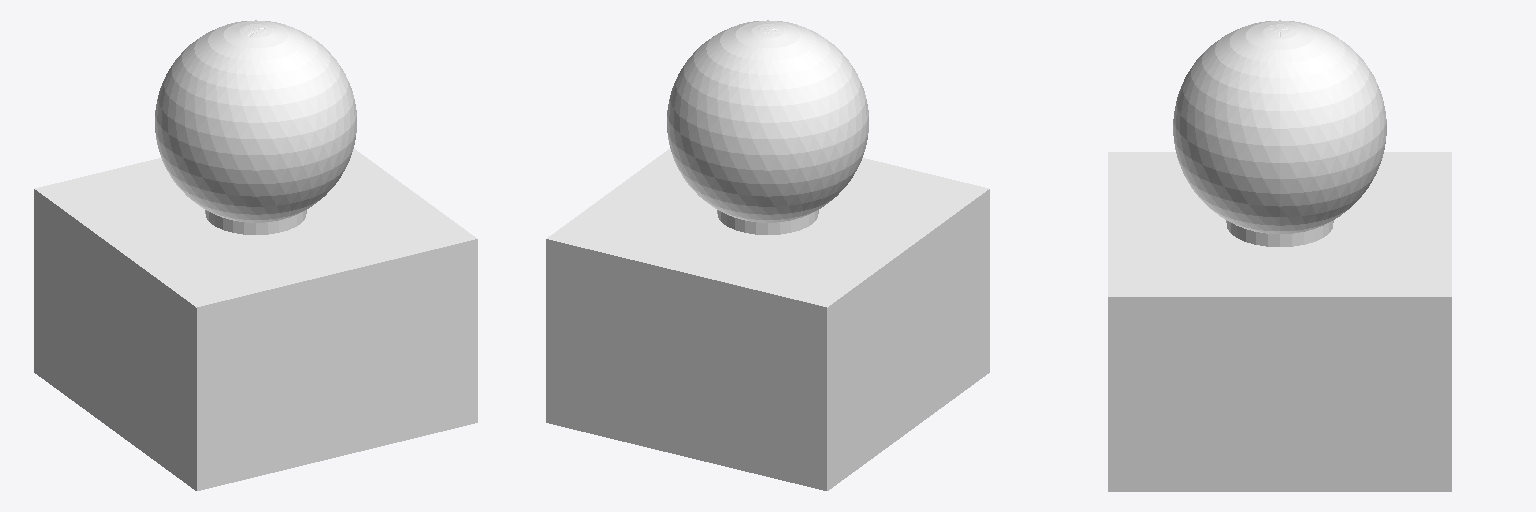
robot.urdf — sphere2:
<robot name="sphere2">
	<link name="_name">
		<visual>
			<origin rpy="0 0 0" xyz="-2.7669034778703877e-08 -3.704159069169237e-11 -0.007634068834465256" />
			<geometry>
				<mesh filename="sphere2.obj" scale=".001 .001 .001" />
			</geometry>
			<material name="texture">
				<color rgba="1.0 1.0 1.0 1.0" />
			</material>
		</visual>
		<collision>
			<geometry>
				<mesh filename="sphere2_vhacd.obj" scale=".001 .001 .001" />
			</geometry>
		<origin rpy="0 0 0" xyz="-2.7669034778703877e-08 -3.704159069169237e-11 -0.007634068834465256" /></collision>
		<inertial>
			<mass value="1.0" />
			<inertia ixx="1.0" ixy="0.0" ixz="0.0" iyy="1.0" iyz="0.0" izz="1.0" />
		</inertial>
	</link>
</robot>

--- Render facts (derived) ---
The picture shows the robot from 3 angles, left to right: view 1: azimuth 30°, elevation 25°; view 2: azimuth 150°, elevation 25°; view 3: azimuth 270°, elevation 25°; orthographic projection.
Model sphere2 with 1 links and 0 joints (none), rooted at _name, posed every joint at zero.
Links seen in each view (by area): view 1: _name; view 2: _name; view 3: _name.
Boxes of the visible links, bbox=[...] form: _name: bbox=[34, 20, 477, 490]; _name: bbox=[546, 20, 989, 490]; _name: bbox=[1108, 20, 1451, 491].
Bounding box of the posed robot: 0.016 × 0.016 × 0.02 m (x, y, z).
1 mesh visuals loaded from 1 distinct referenced files (1 OBJ).